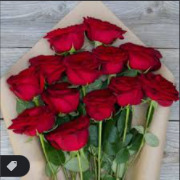RedRose: (82, 13, 126, 47), (139, 73, 178, 111), (62, 51, 102, 87), (5, 66, 48, 98), (87, 90, 119, 130), (45, 22, 89, 50), (8, 108, 57, 133)
